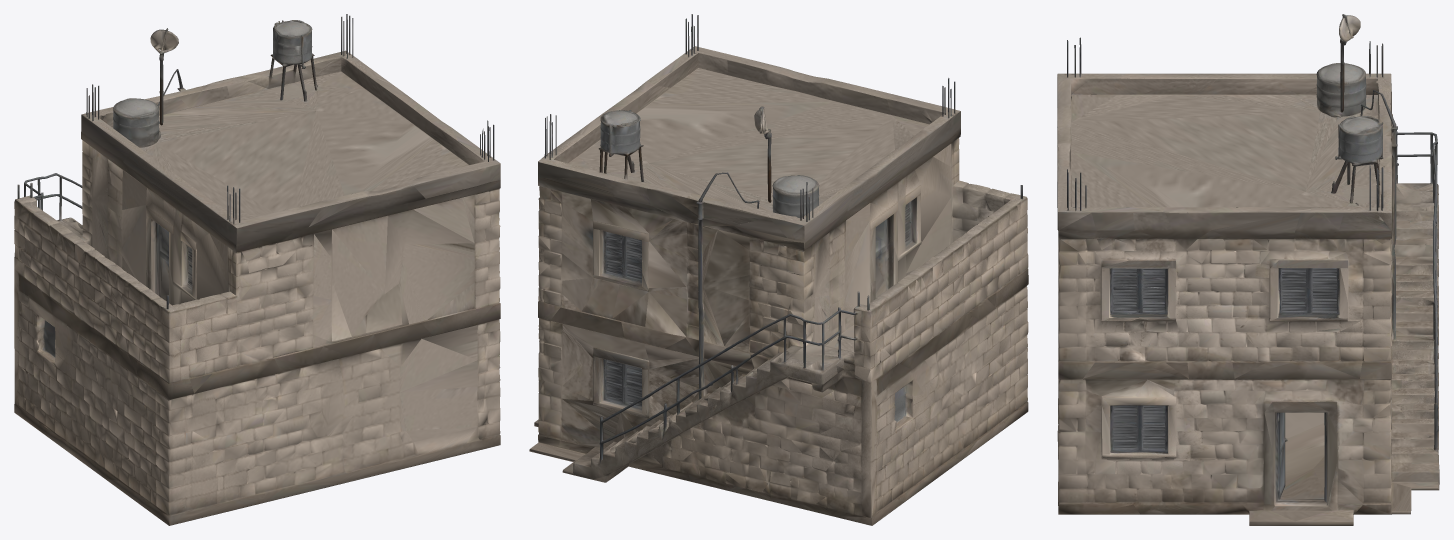
The model's file is house.glb.
The picture shows the model from 3 angles, left to right: view 1: azimuth 30°, elevation 25°; view 2: azimuth 150°, elevation 25°; view 3: azimuth 270°, elevation 25°; orthographic projection. The views are drawn at different scales.
Visible parts, largest first — view 1: wall, trim, metal, roof; view 2: wall, metal, trim, roof; view 3: wall, trim, metal, glass, roof.
Boxes of the visible parts, box(x1,y1,x2,y2) form: wall: box(14, 37, 500, 525); trim: box(15, 71, 474, 358); metal: box(14, 14, 500, 272); roof: box(82, 50, 500, 228); wall: box(534, 24, 1028, 525); metal: box(529, 14, 955, 504); trim: box(568, 68, 1026, 352); roof: box(538, 46, 960, 225); wall: box(1057, 62, 1397, 525); trim: box(1058, 94, 1392, 499); metal: box(1057, 14, 1439, 514); glass: box(1101, 260, 1360, 505); roof: box(1057, 73, 1397, 213).
Size of the model in its own units: 12.79 by 12.71 by 11.14.
Materials: 1 (1 with a texture image).
